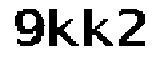2: (113, 4, 155, 54)
9: (10, 1, 44, 51)
k: (44, 2, 79, 50), (83, 2, 113, 52)
